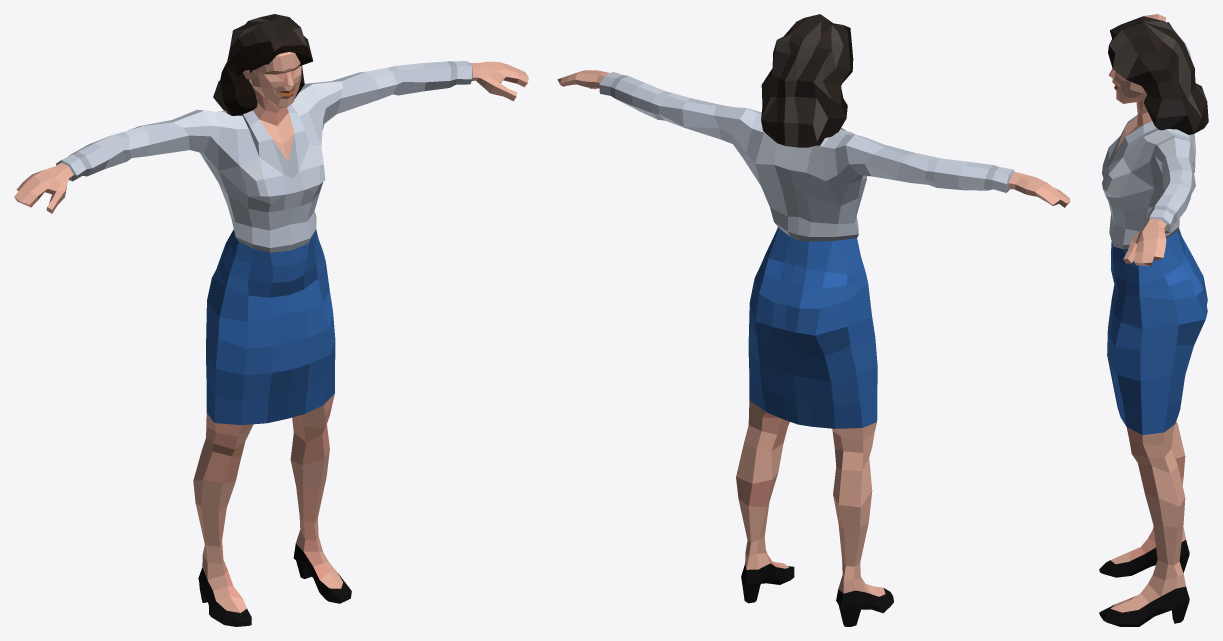
File: office_Female_A-model.fbx
3 views of the same model, side by side, from view 1: azimuth 30°, elevation 25°; view 2: azimuth 150°, elevation 25°; view 3: azimuth 270°, elevation 25° (orthographic).
Visible parts, largest first — view 1: office_Female_A, acc_hair_long; view 2: office_Female_A, acc_hair_long; view 3: office_Female_A, acc_hair_long.
Boxes of the visible parts, x1,y1,x2,y2 form: office_Female_A: [14, 52, 528, 626]; acc_hair_long: [213, 14, 312, 115]; office_Female_A: [557, 70, 1070, 626]; acc_hair_long: [761, 14, 853, 147]; office_Female_A: [1099, 14, 1207, 626]; acc_hair_long: [1108, 16, 1208, 134].
Bounding box in the file's own units: 153 × 167 × 28.7.
Materials: 1 (1 with a texture image).
